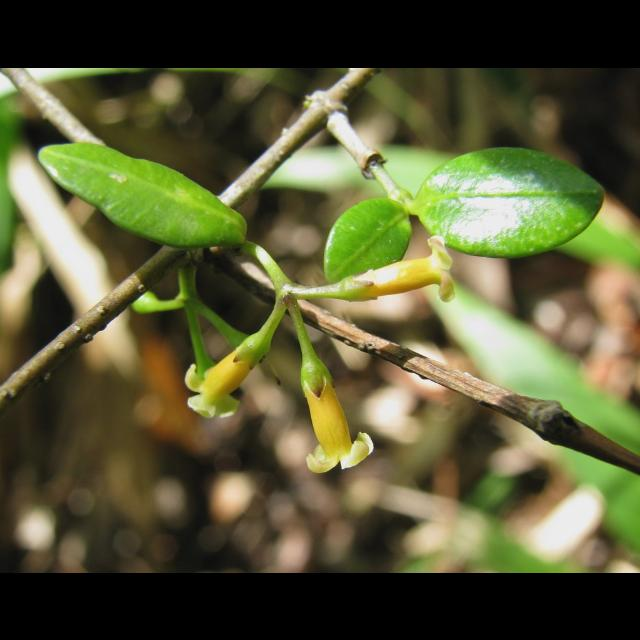Flower: (349, 229, 456, 305), (300, 382, 376, 472), (182, 342, 262, 418)
